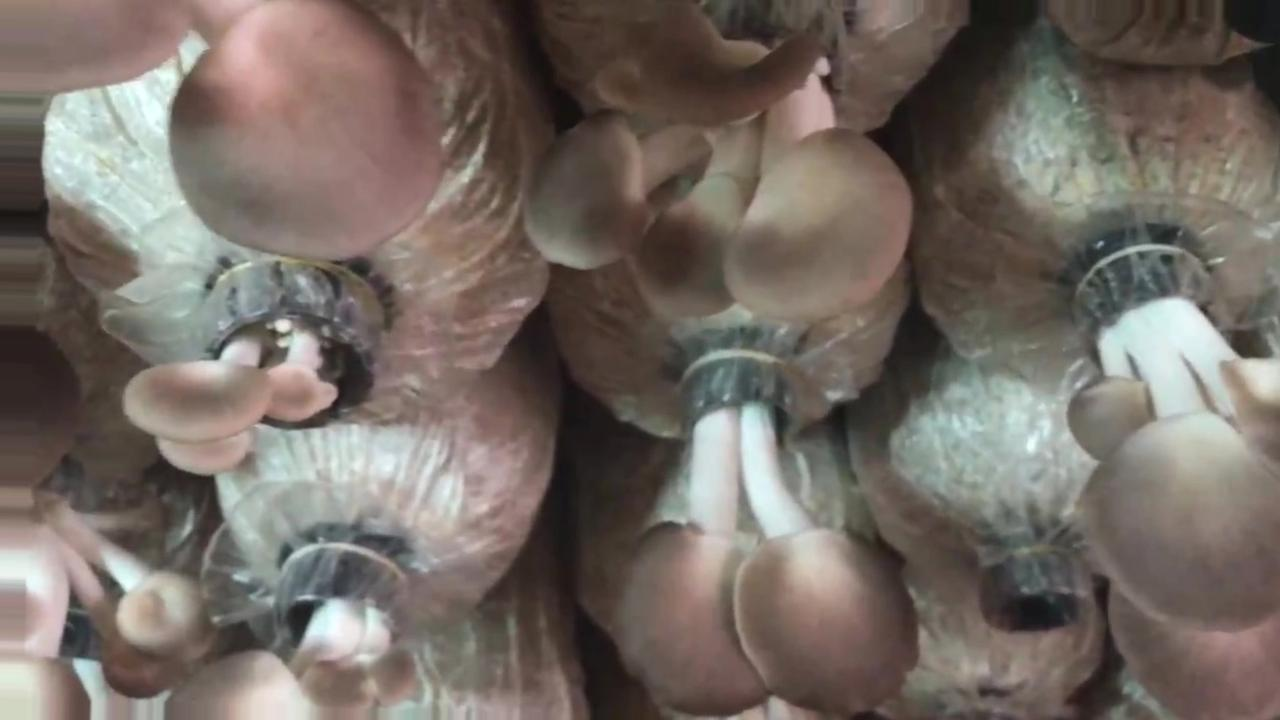nam: (527, 14, 910, 318), (613, 343, 917, 716), (4, 1, 442, 259), (1068, 249, 1280, 717), (124, 266, 389, 477), (1, 477, 214, 720), (175, 550, 416, 720)
